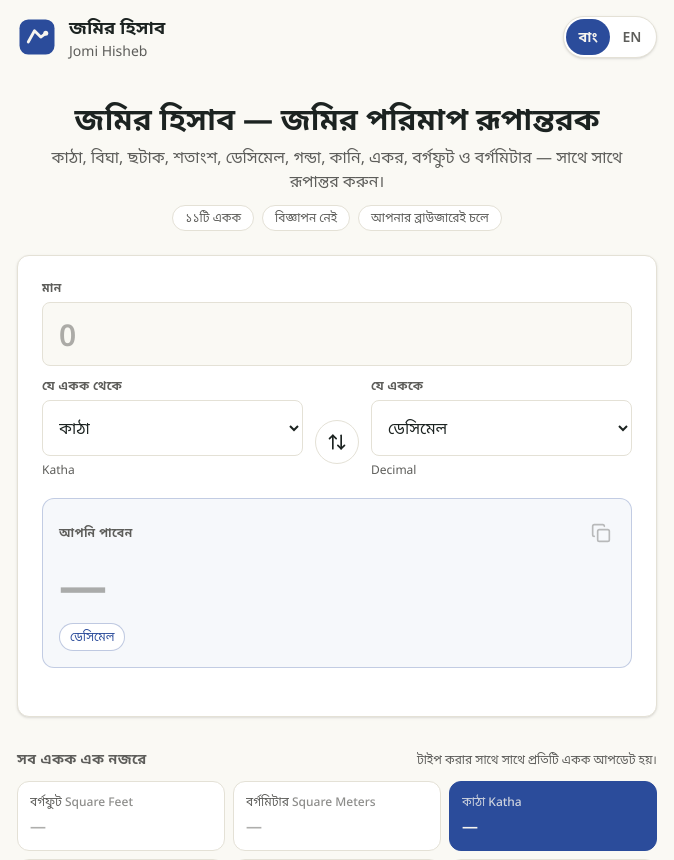
Test case: App integration › swap flips units and preserves input
In the field labelled "মান": (337, 334) [42, 302, 632, 366], type "5"
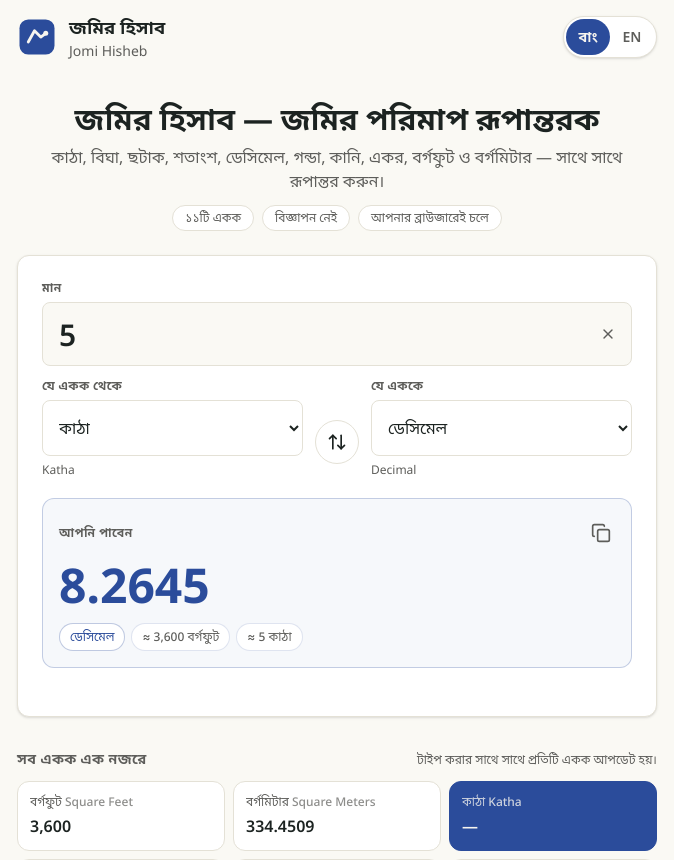
Click the button named "অদল-বদল": (337, 442) [315, 420, 359, 464]
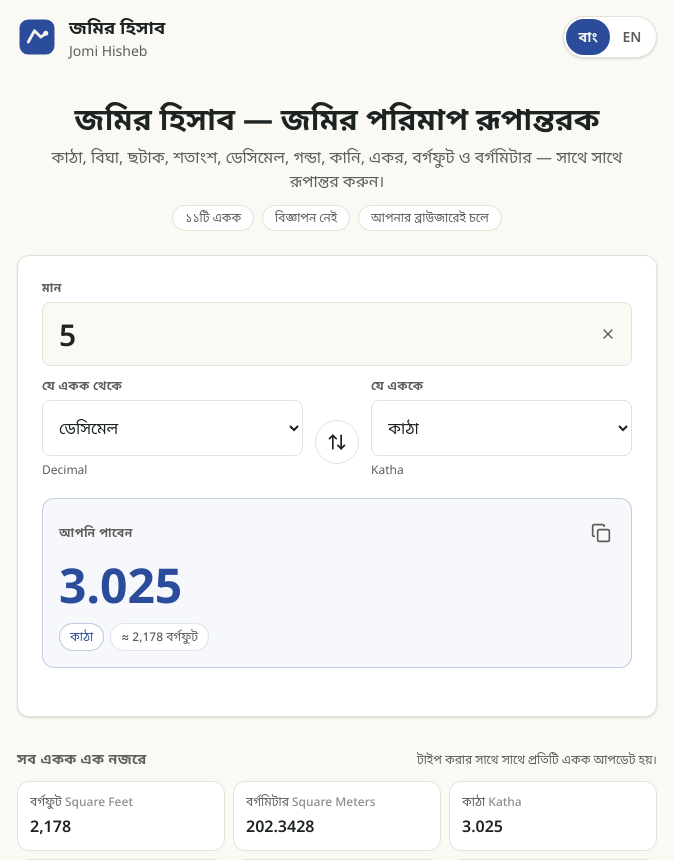
Now the dropdown labelled "যে একক থেকে" shows "ডেসিমেল", box [42, 400, 303, 456]
Now the dropdown labelled "যে এককে" shows "কাঠা", box [371, 400, 632, 456]
Now the text "3.025" below "আপনি পাবেন" is shown, box [59, 552, 182, 617]
